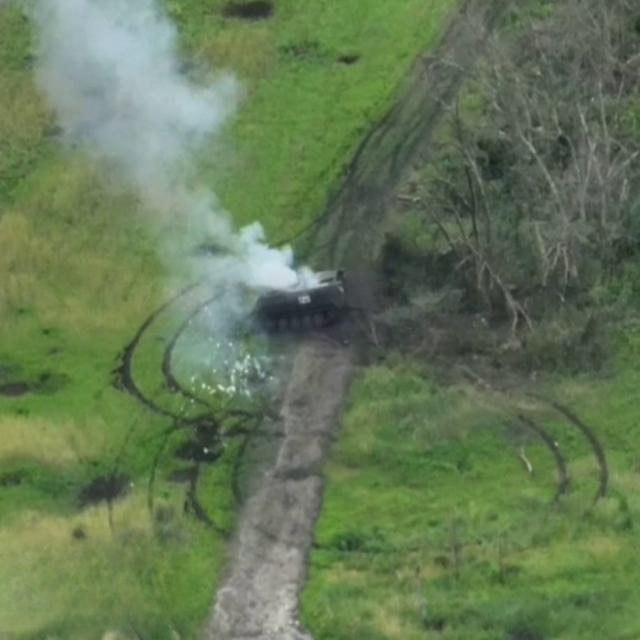APC: (254, 268, 348, 337)
